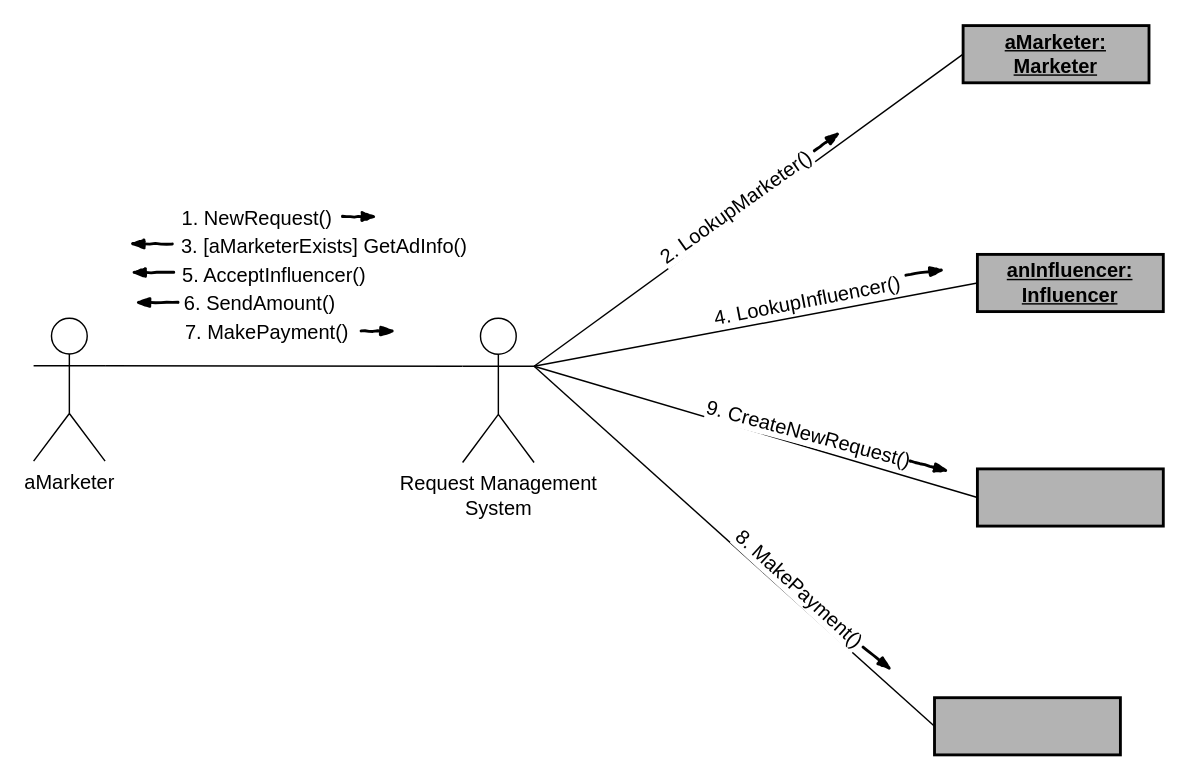
This 1190x781 diagram has some shape labels left out. Here are the shapes that lost their labels. From the top down, the centre of each, then its label:
pixel 1069 497: anAdvetisement: Advertisement
pixel 1026 726: aPayment: Payment
